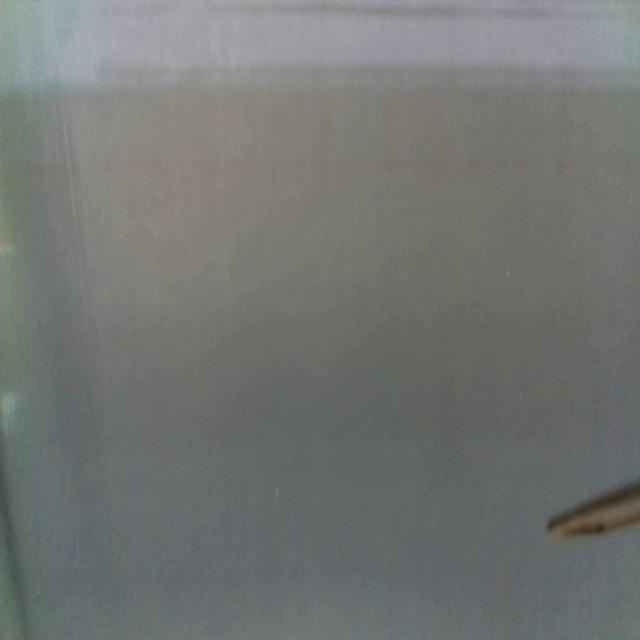color bleeding: (0, 67, 640, 463)
